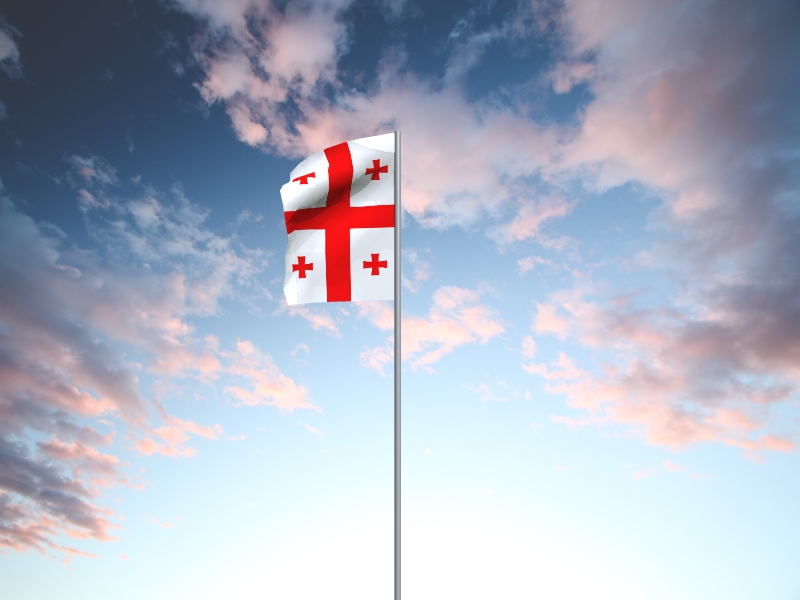ge: (280, 133, 395, 306)
